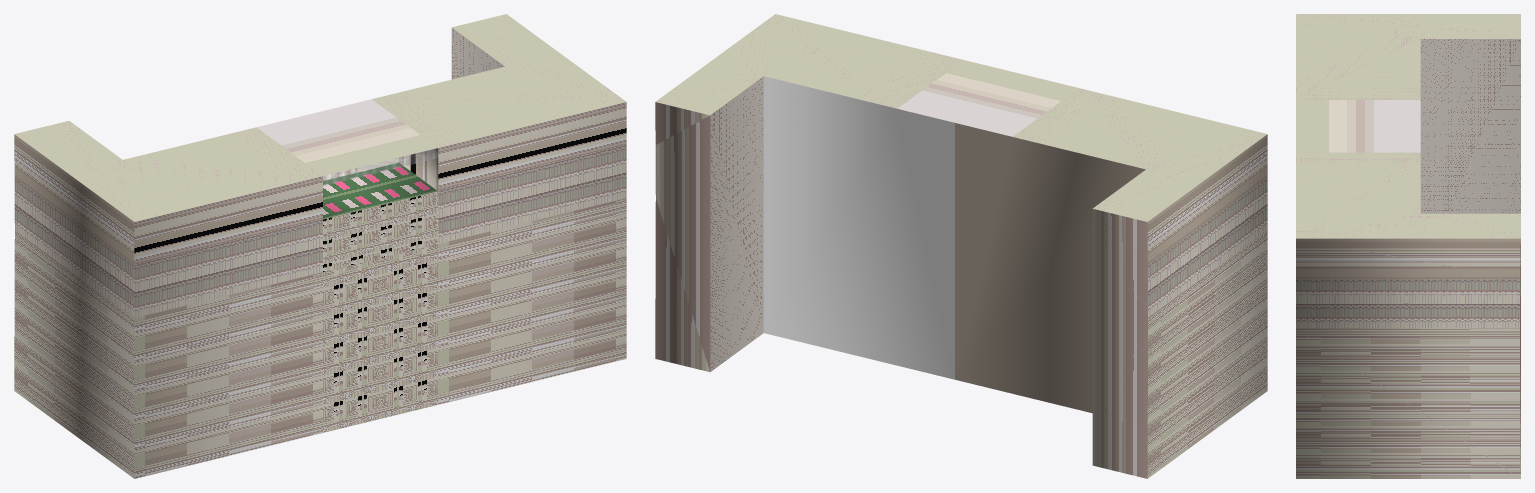
3 renders of one model, left to right at view 1: azimuth 30°, elevation 25°; view 2: azimuth 150°, elevation 25°; view 3: azimuth 270°, elevation 25°, orthographic. The views are drawn at different scales.
Parts seen in each view (by area): view 1: 3372kg_sh2_13; view 2: 3372kg_sh2_13; view 3: 3372kg_sh2_13.
Boxes of the visible parts, bbox=[...] form: 3372kg_sh2_13: bbox=[14, 14, 626, 478]; 3372kg_sh2_13: bbox=[655, 14, 1267, 478]; 3372kg_sh2_13: bbox=[1296, 14, 1520, 478].
Bounding box in the file's own units: 1.88 × 0.9375 × 0.7952.
Materials: 4 (4 with a texture image).
